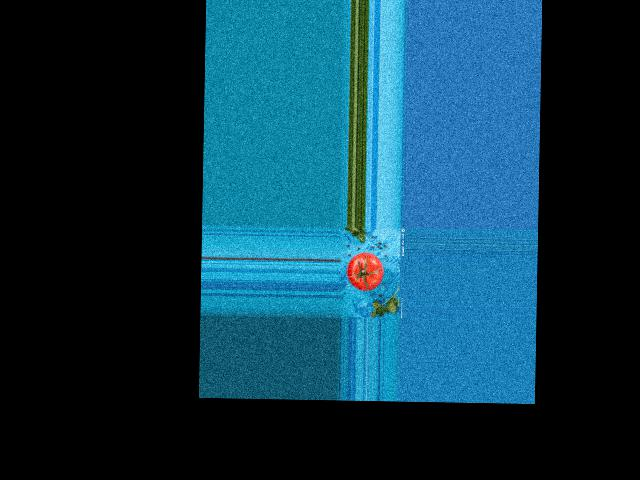tomato: (346, 252, 384, 291)
